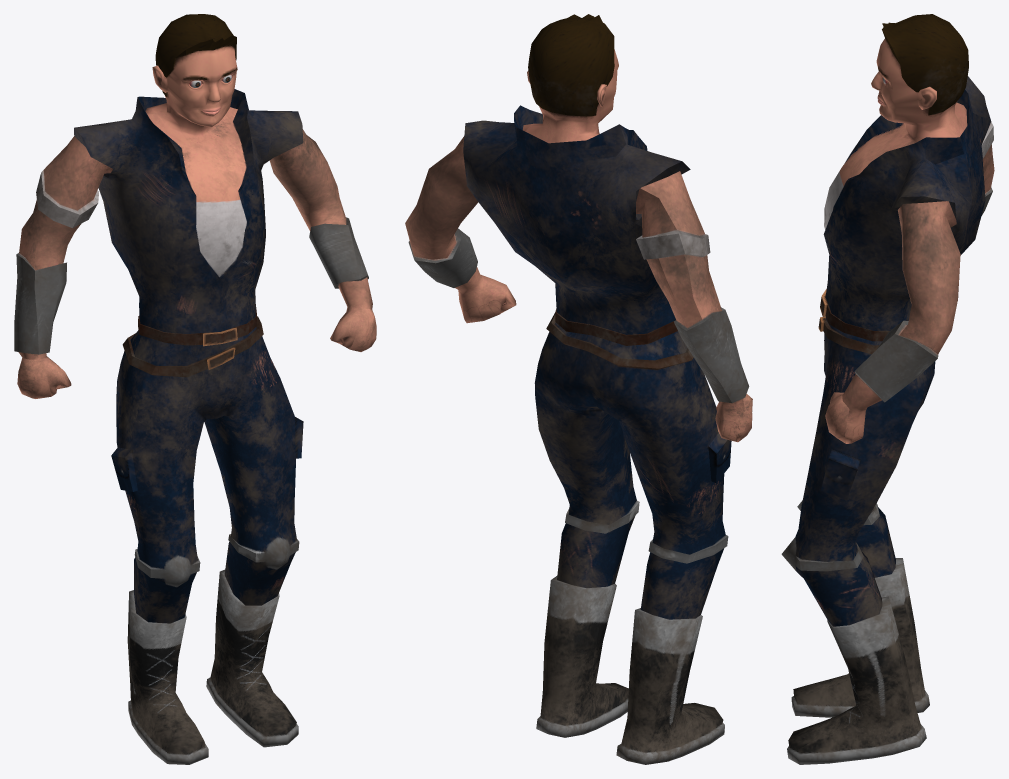
File: Anim_recibirdanyo_jugador.0013.obj
The picture shows the model from 3 angles, left to right: view 1: azimuth 30°, elevation 25°; view 2: azimuth 150°, elevation 25°; view 3: azimuth 270°, elevation 25°; orthographic projection. The views are drawn at different scales.
Parts seen in each view (by area): view 1: polySurface1; view 2: polySurface1; view 3: polySurface1.
Part boxes in pixels (x1,y1,x2,y2): polySurface1: (14, 14, 376, 764); polySurface1: (405, 14, 752, 764); polySurface1: (781, 14, 994, 764).
Size of the model in its own units: 4.67 by 9.45 by 2.51.
